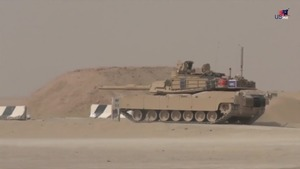abrams: (98, 61, 272, 125)
